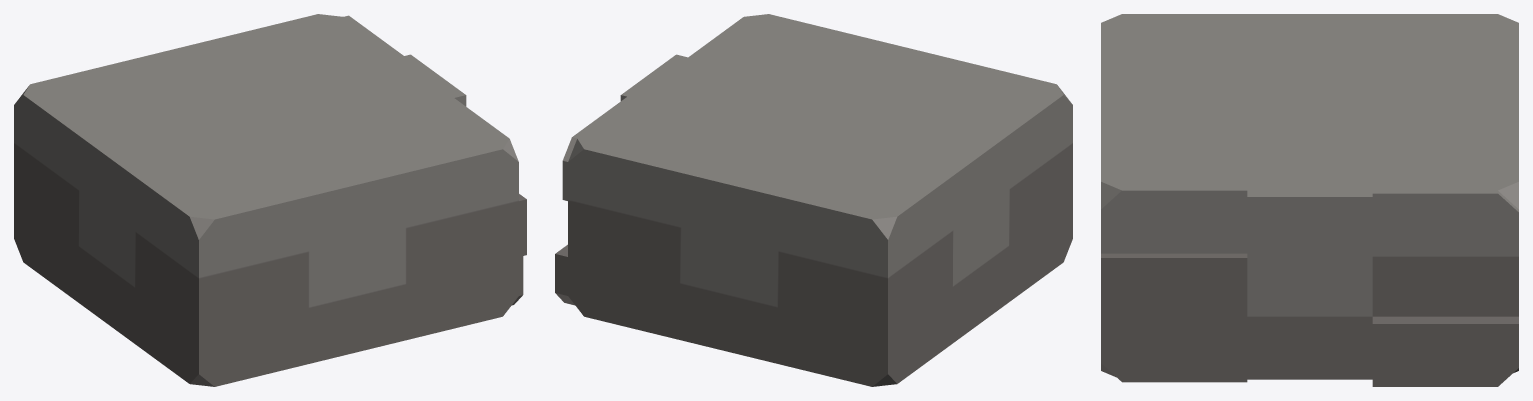
The model's file is Platform_Stone_01.fbx.
3 renders of one model, left to right at view 1: azimuth 30°, elevation 25°; view 2: azimuth 150°, elevation 25°; view 3: azimuth 270°, elevation 25°, orthographic. The views are drawn at different scales.
Parts seen in each view (by area): view 1: Stone_01; view 2: Stone_01; view 3: Stone_01.
Boxes of the visible parts, left/top/right/bottom form: Stone_01: left=14, top=14, right=526, bottom=386; Stone_01: left=555, top=14, right=1072, bottom=386; Stone_01: left=1101, top=14, right=1518, bottom=386.
Bounding box in the file's own units: 81.95 × 39.37 × 78.74.
Materials: 1 (1 with a texture image).
